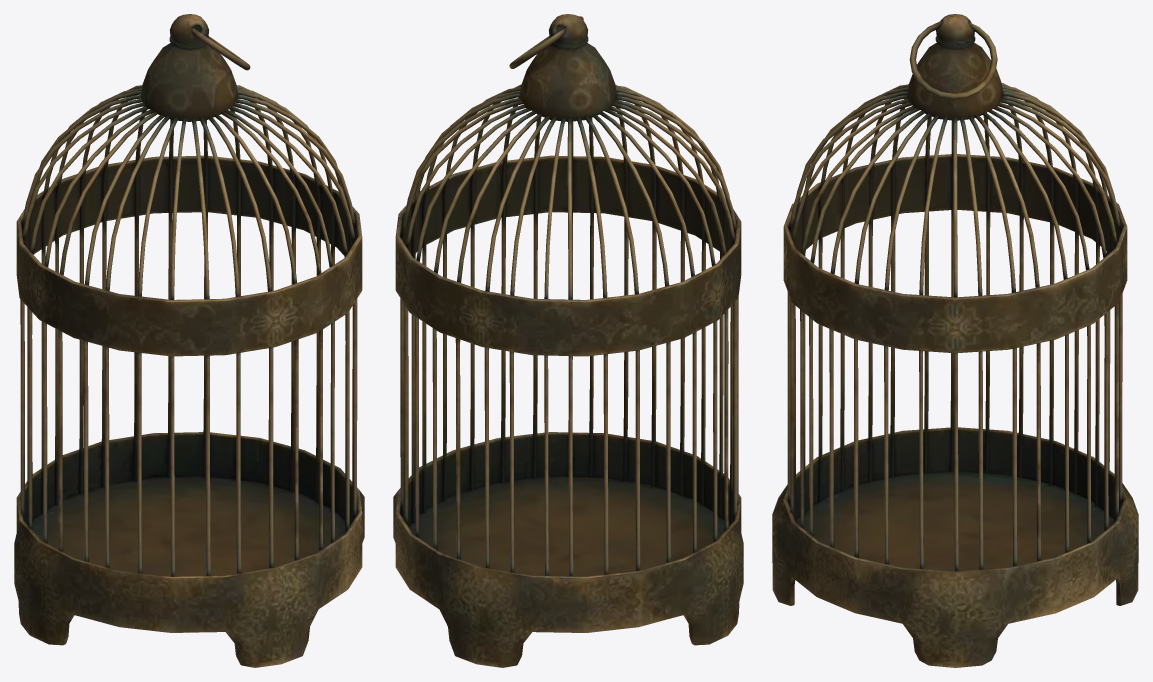
The model's file is obj_birdcage.glb.
The picture shows the model from 3 angles, left to right: view 1: azimuth 30°, elevation 25°; view 2: azimuth 150°, elevation 25°; view 3: azimuth 270°, elevation 25°; orthographic projection.
Parts seen in each view (by area): view 1: Object_2; view 2: Object_2; view 3: Object_2.
Part boxes in pixels (left/top/right/bottom): Object_2: left=14, top=14, right=364, bottom=667; Object_2: left=393, top=14, right=743, bottom=667; Object_2: left=772, top=14, right=1138, bottom=667.
Size of the model in its own units: 0.3177 by 0.55 by 0.3177.
2 materials, 2 textured.
